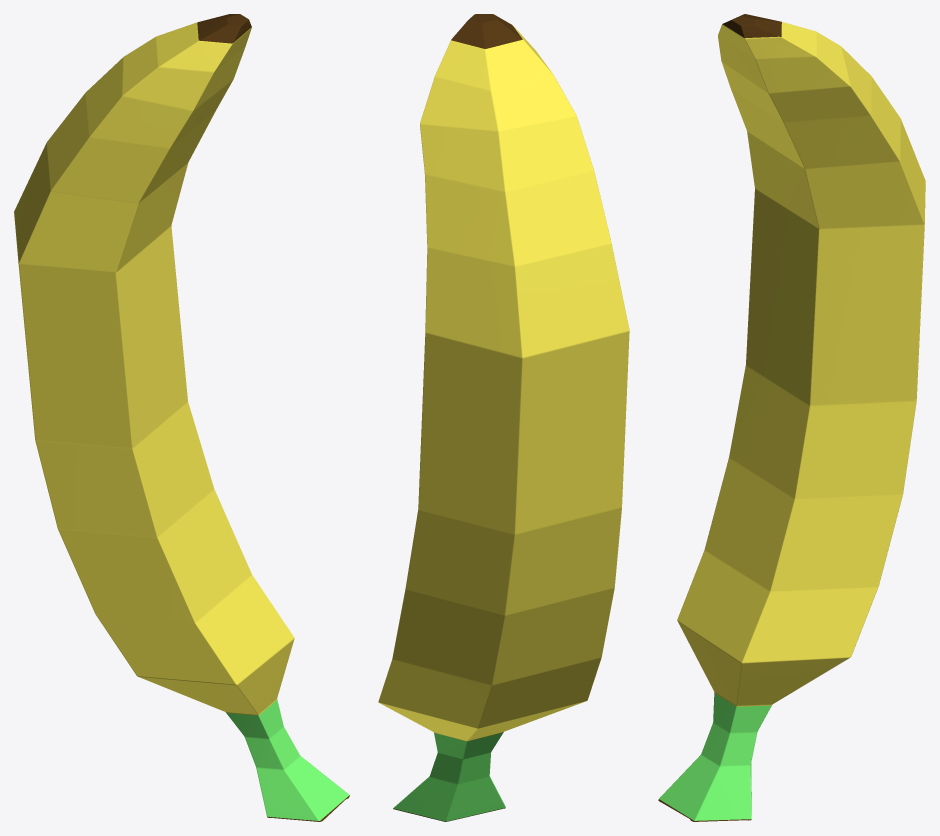
Rendered from xiangjiao.fbx.
3 views of the same model, side by side, from view 1: azimuth 30°, elevation 25°; view 2: azimuth 150°, elevation 25°; view 3: azimuth 270°, elevation 25° (orthographic). The views are drawn at different scales.
Parts seen in each view (by area): view 1: pCylinder69; view 2: pCylinder69; view 3: pCylinder69.
Boxes of the visible parts, <box> form: pCylinder69: <box>14,14,349,821</box>; pCylinder69: <box>378,14,629,821</box>; pCylinder69: <box>658,14,925,821</box>.
Bounding box in the file's own units: 0.6342 × 0.5645 × 1.77.
